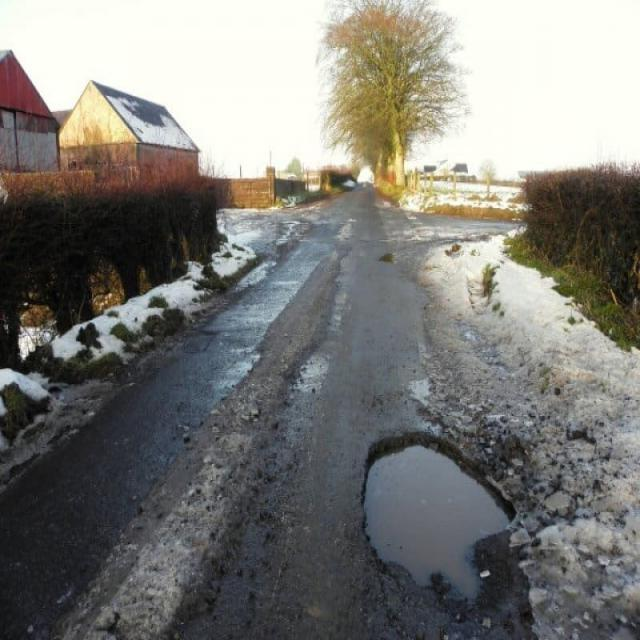pothole: (354, 432, 556, 640)
